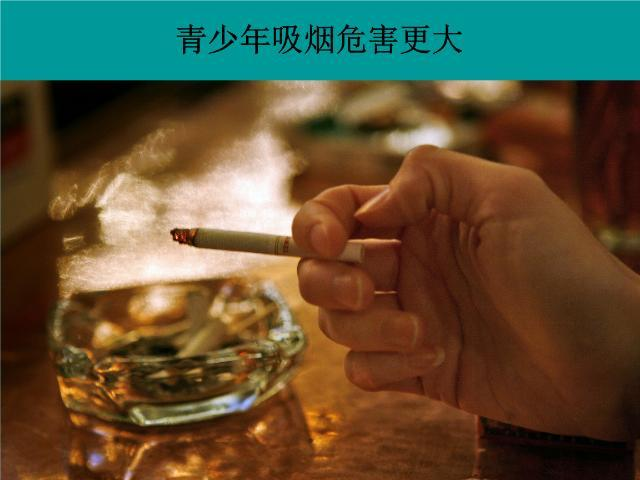Smoking: (166, 222, 370, 266)
